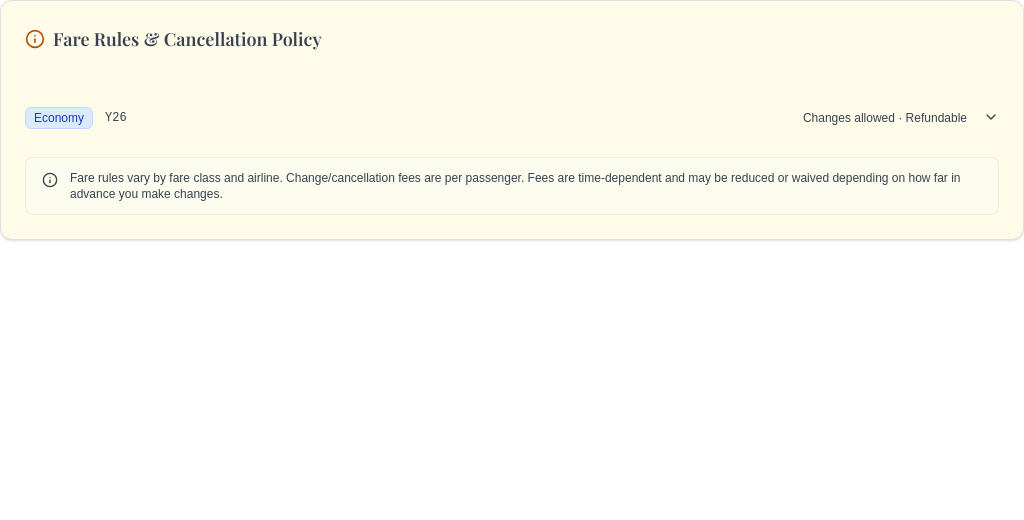
Scenario: FareRulesSummary cancellation policy explainer › states when refunds are permitted
The image size is (1024, 520).
Click the button "Economy Y26 Changes allowed · Refundable" at (59, 118), box left=25, top=95, right=999, bottom=141
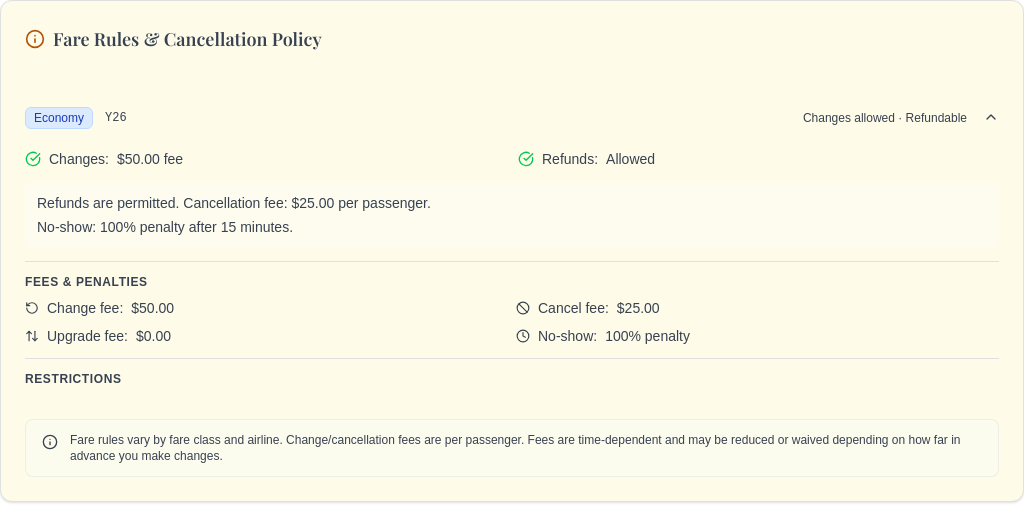
Result: the element with test id "cancellation-policy-explainer" shows "Refunds are permitted." at left=37, top=195, right=179, bottom=211
